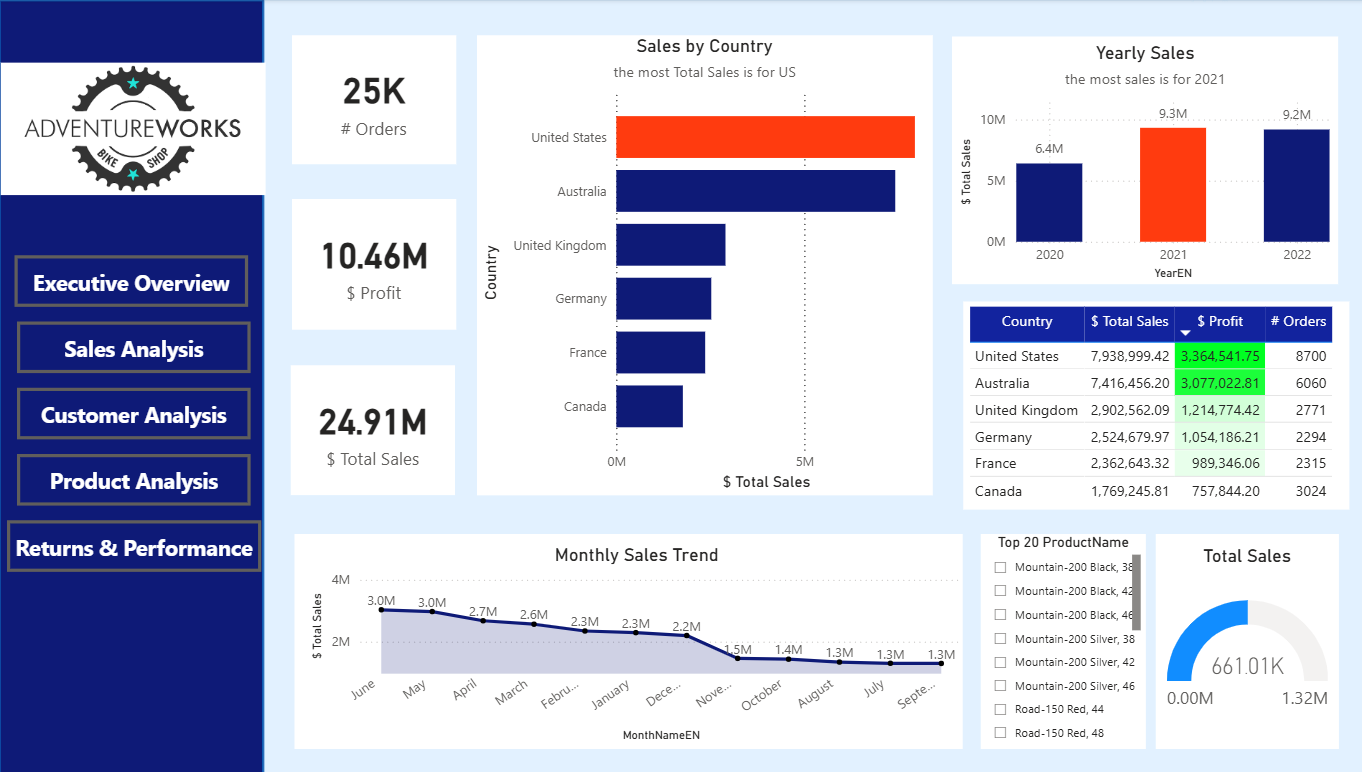

The page's visual inventory and layout, read from the dashboard file:
{"tool":"powerbi","page":{"name":"Sales Analysis","canvas":[1280,720],"ordinal":1},"visuals":[{"type":"group","id":"g1","title":"Navigation","box":[0,243,250.4,280.1],"z":0},{"type":"shape","box":[7.2,1.4,245.3,719.8],"z":500,"group":"g3"},{"type":"shape","box":[251.8,0,1025.4,720.7],"z":1000},{"type":"card","fields":{"Values":["Fact_Sales.# Orders"]},"box":[278.9,33.9,152.5,120.2],"z":2000},{"type":"card","fields":{"Values":["Fact_Sales.$ Profit"]},"box":[278.9,186.4,152.5,121.7],"z":3000},{"type":"textbox","box":[0,359.6,250.4,44.5],"z":3000,"group":"g4"},{"type":"textbox","box":[4.4,243,240.7,43],"z":4000,"group":"g4"},{"type":"lineChart","title":"Monthly Sales Trend","fields":{"Y":["Fact_Sales.$ Total Sales"],"Category":["Dim_Date.MonthNameEN"]},"box":[281.3,498.1,621.6,200.3],"z":4000},{"type":"columnChart","title":"Yearly Sales","fields":{"Y":["Fact_Sales.$ Total Sales"],"Category":["Dim_Date.YearEN"]},"box":[893.3,34.3,359.5,230.5],"z":5000},{"type":"textbox","box":[0,299.5,244.9,47.3],"z":5000,"group":"g4"},{"type":"clusteredBarChart","title":"Sales by Country","fields":{"Y":["Fact_Sales.$ Total Sales"],"Category":["Dim_Territory.Country"]},"box":[451.4,33.9,423.7,428.3],"z":6000},{"type":"textbox","box":[0,417,243.5,44.5],"z":6000,"group":"g4"},{"type":"tableEx","fields":{"Values":["Dim_Territory.Country","Fact_Sales.$ Total Sales","Fact_Sales.$ Profit","Fact_Sales.# Orders"]},"box":[903,281,359,193.4],"z":7000},{"type":"textbox","box":[0,474.4,247.7,48.7],"z":7000,"group":"g4"},{"type":"card","fields":{"Values":["Fact_Sales.$ Total Sales"]},"box":[278.3,340.9,153,121],"z":8000},{"type":"gauge","title":"Total Sales","fields":{"Y":["Fact_Sales.$ Total Sales"]},"box":[1082.7,498.1,170.2,200.3],"z":9000},{"type":"slicer","title":"Top 20 ProductName","fields":{"Values":["Dim_Product.ProductName"]},"box":[919.4,498.1,153.7,200.3],"z":10000},{"type":"group","id":"g2","title":"Navigation","box":[7.2,0,247.3,721.6],"z":11000},{"type":"group","id":"g3","title":"Group 1","box":[7.2,1.4,245.3,719.8],"z":12000,"group":"g2"},{"type":"group","id":"g4","title":"Group 1","box":[0,243,250.4,280.1],"z":12000,"group":"g1"},{"type":"actionButton","box":[21,238.4,217.3,48],"z":12003,"group":"g3"},{"type":"image","box":[8.3,0,246.3,242.1],"z":12500,"group":"g2"},{"type":"actionButton","box":[23.8,300.1,217.3,48],"z":13000,"group":"g3"},{"type":"actionButton","box":[23.8,423.4,217.3,48],"z":14000,"group":"g3"},{"type":"actionButton","box":[14.2,485.1,236.5,48],"z":15000,"group":"g3"},{"type":"actionButton","box":[23.8,361.8,217.3,48],"z":16000,"group":"g3"}]}

Visuals, with their boxes in screenshot pixels (x1, y1, x2, y2), scaled from the page's 1280x720 canvas onto the 1362x772 screenshot:
"Navigation" group: BBox(0, 261, 266, 561)
shape: BBox(8, 2, 269, 771)
shape: BBox(268, 0, 1359, 771)
card - Fact_Sales.# Orders: BBox(297, 36, 459, 165)
card - Fact_Sales.$ Profit: BBox(297, 200, 459, 330)
textbox: BBox(0, 386, 266, 433)
textbox: BBox(5, 261, 261, 307)
"Monthly Sales Trend" lineChart: BBox(299, 534, 961, 749)
"Yearly Sales" columnChart: BBox(951, 37, 1333, 284)
textbox: BBox(0, 321, 261, 372)
"Sales by Country" clusteredBarChart: BBox(480, 36, 931, 496)
textbox: BBox(0, 447, 259, 495)
tableEx - Dim_Territory.Country x Fact_Sales.$ Total Sales: BBox(961, 301, 1343, 509)
textbox: BBox(0, 509, 264, 561)
card - Fact_Sales.$ Total Sales: BBox(296, 366, 459, 495)
"Total Sales" gauge: BBox(1152, 534, 1333, 749)
"Top 20 ProductName" slicer: BBox(978, 534, 1142, 749)
"Navigation" group: BBox(8, 0, 271, 771)
"Group 1" group: BBox(8, 2, 269, 771)
"Group 1" group: BBox(0, 261, 266, 561)
actionButton: BBox(22, 256, 254, 307)
image: BBox(9, 0, 271, 260)
actionButton: BBox(25, 322, 257, 373)
actionButton: BBox(25, 454, 257, 505)
actionButton: BBox(15, 520, 267, 572)
actionButton: BBox(25, 388, 257, 439)
